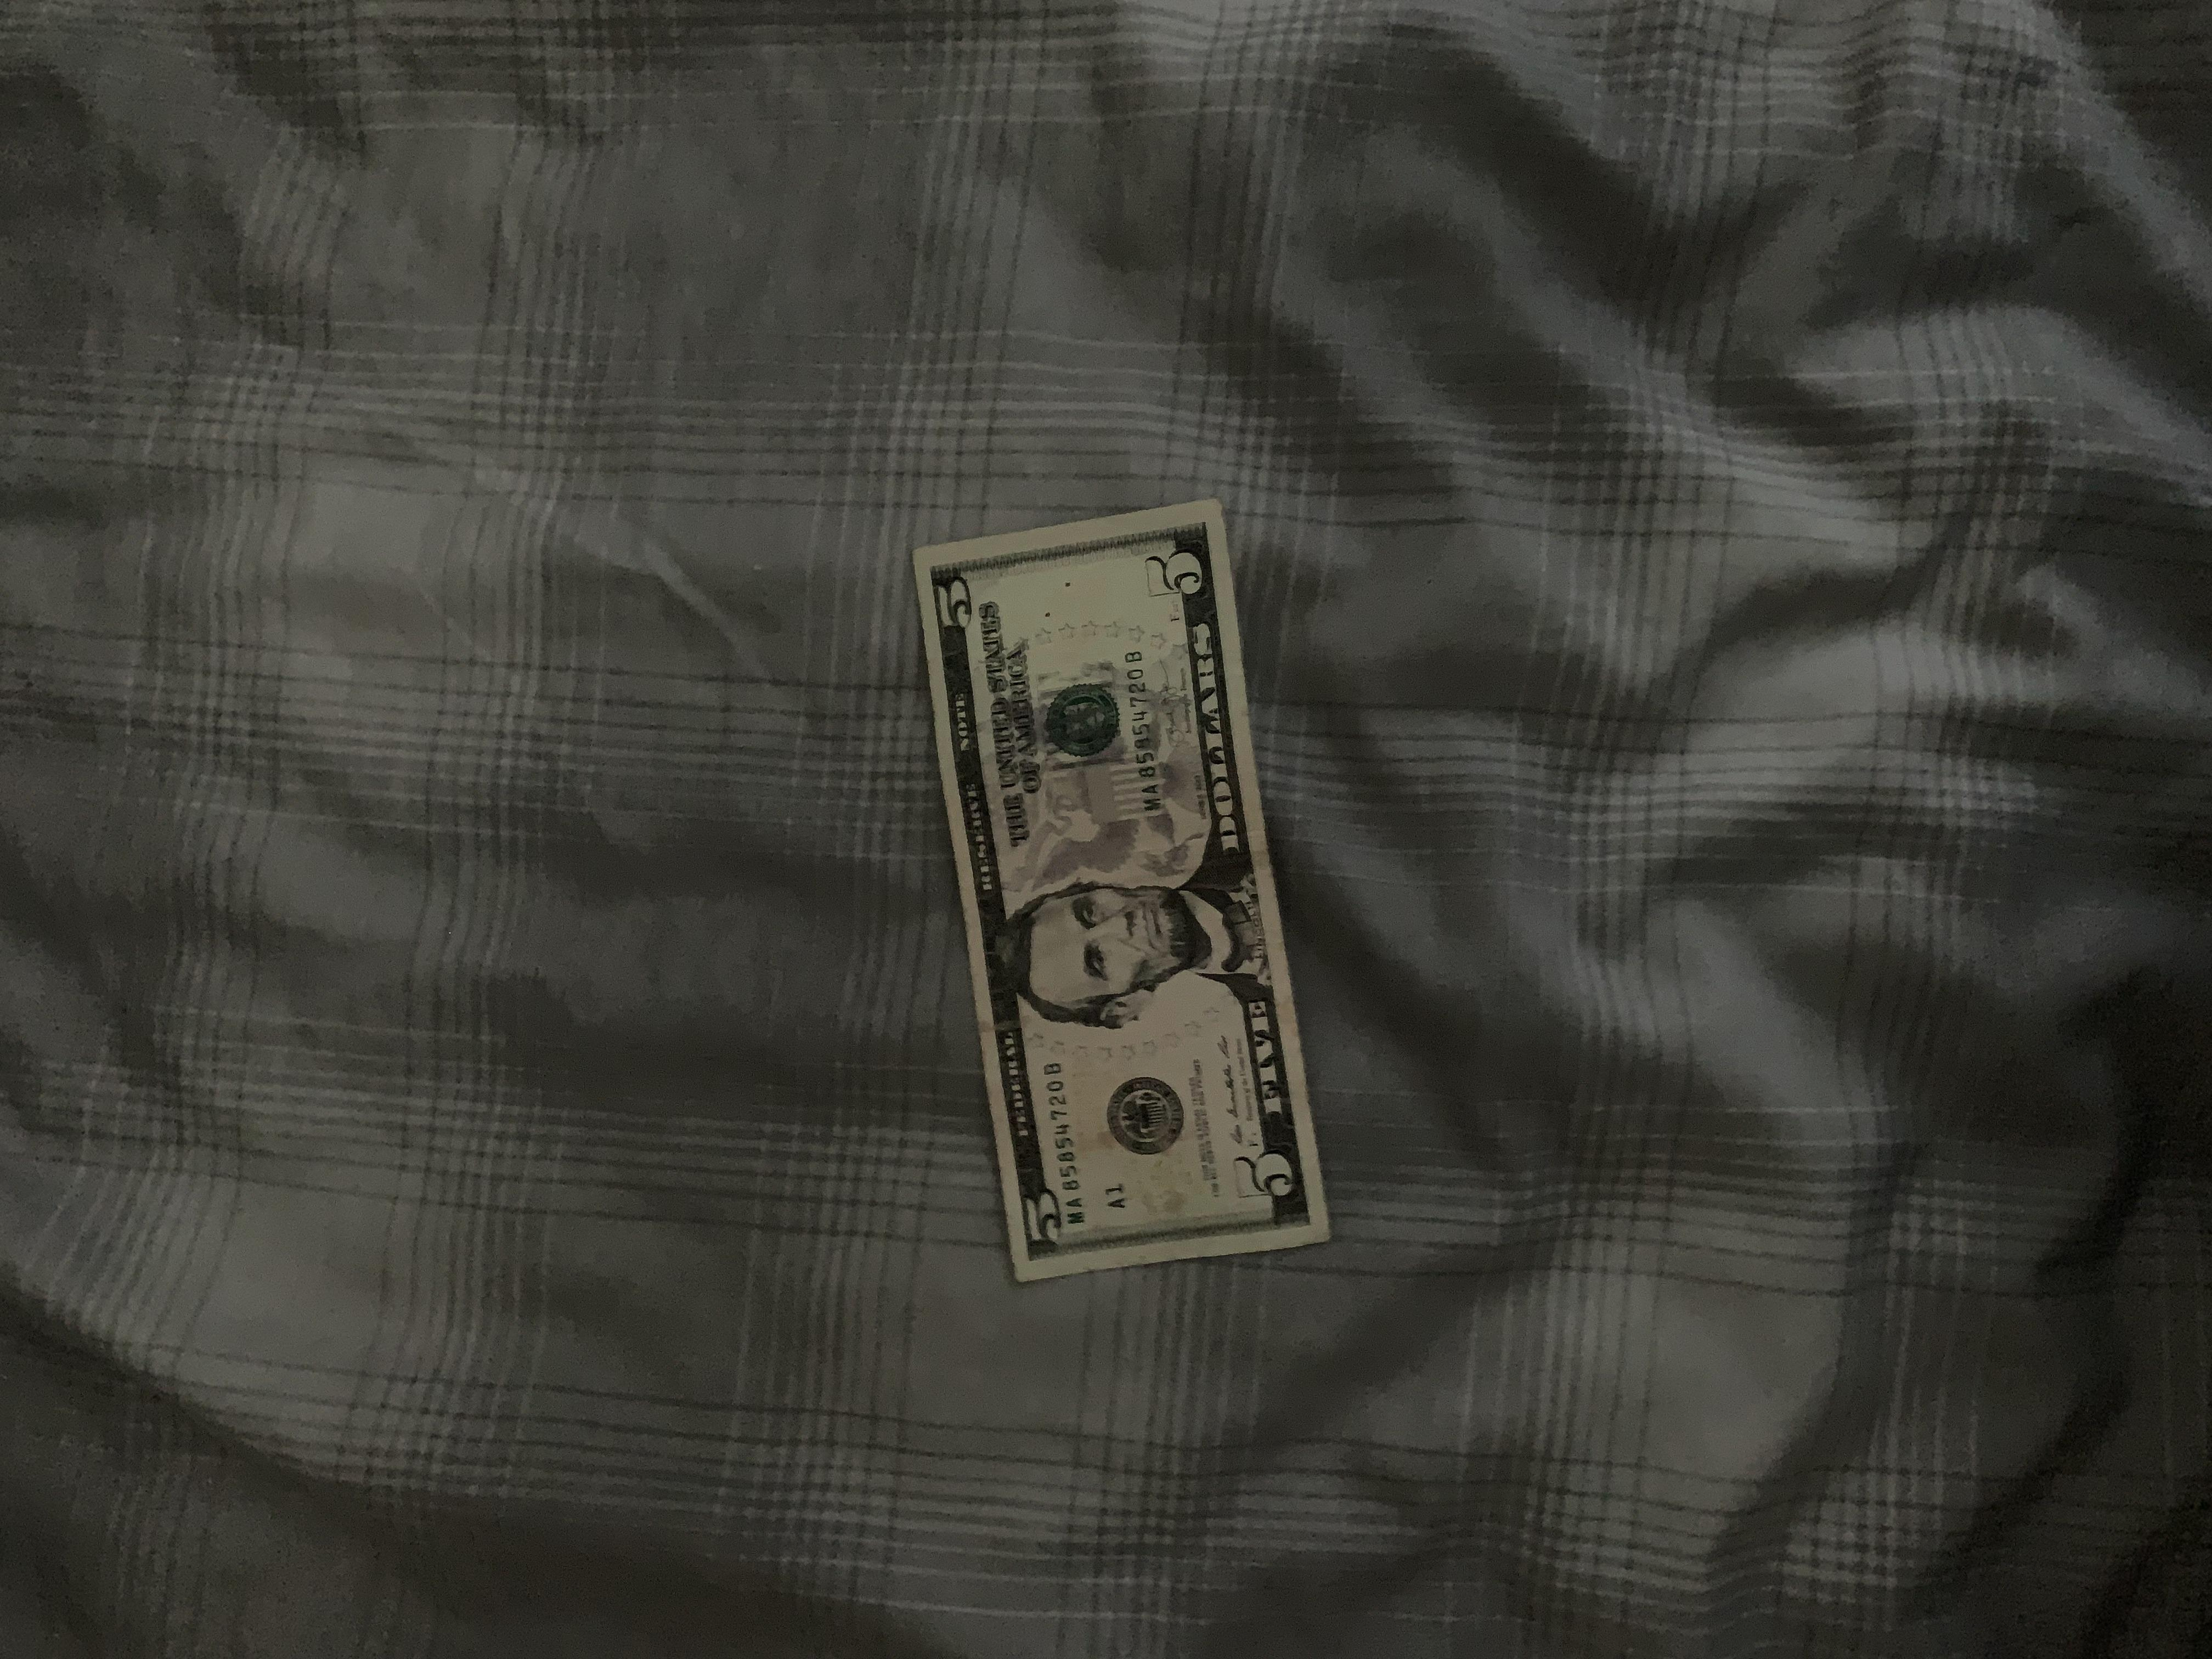FiveBill: (906, 490, 1341, 1284)
